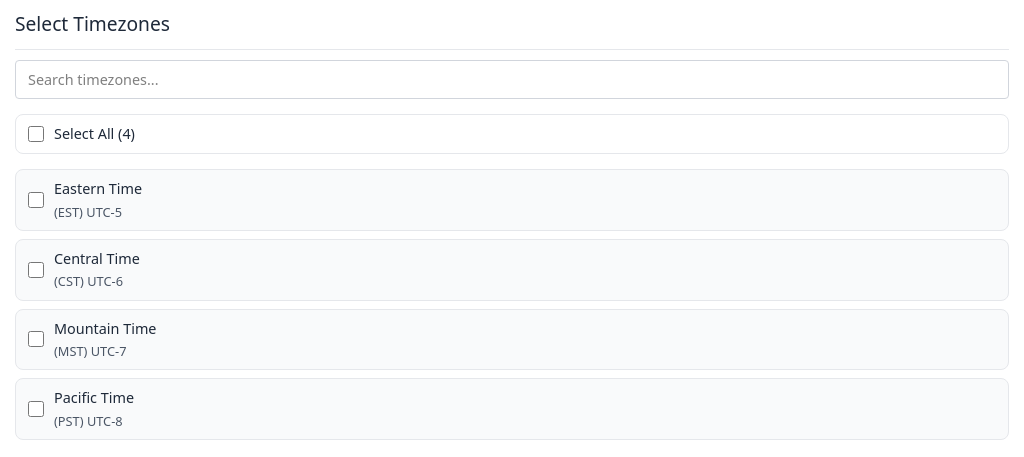
TimezoneSelector › filters timezones based on search query
Type "Pacific" into the field with placeholder "Search timezones..." at (512, 80), box [15, 60, 1009, 99]
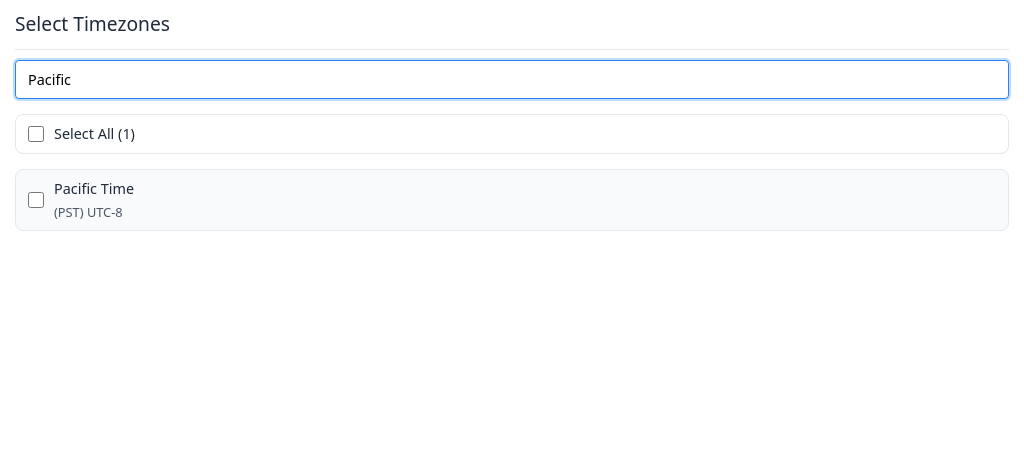
expect the text "Eastern Time" is gone: met
expect the text "Central Time" is gone: met
expect the text "Mountain Time" is gone: met
